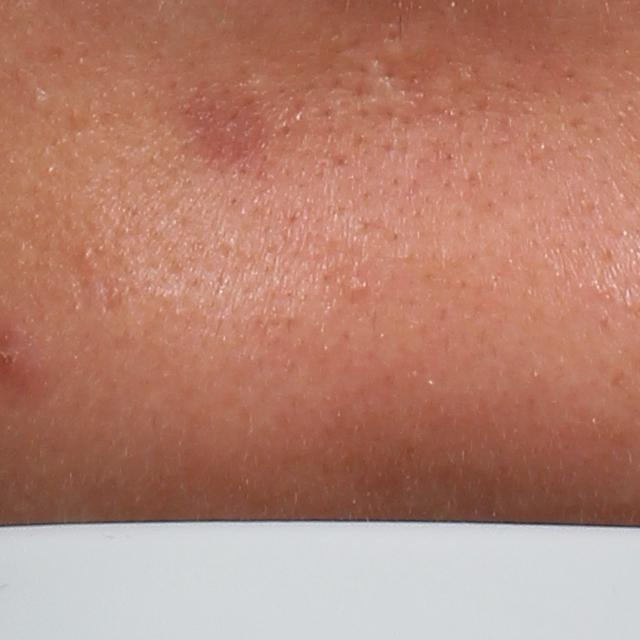comedo: (29, 88, 50, 108)
